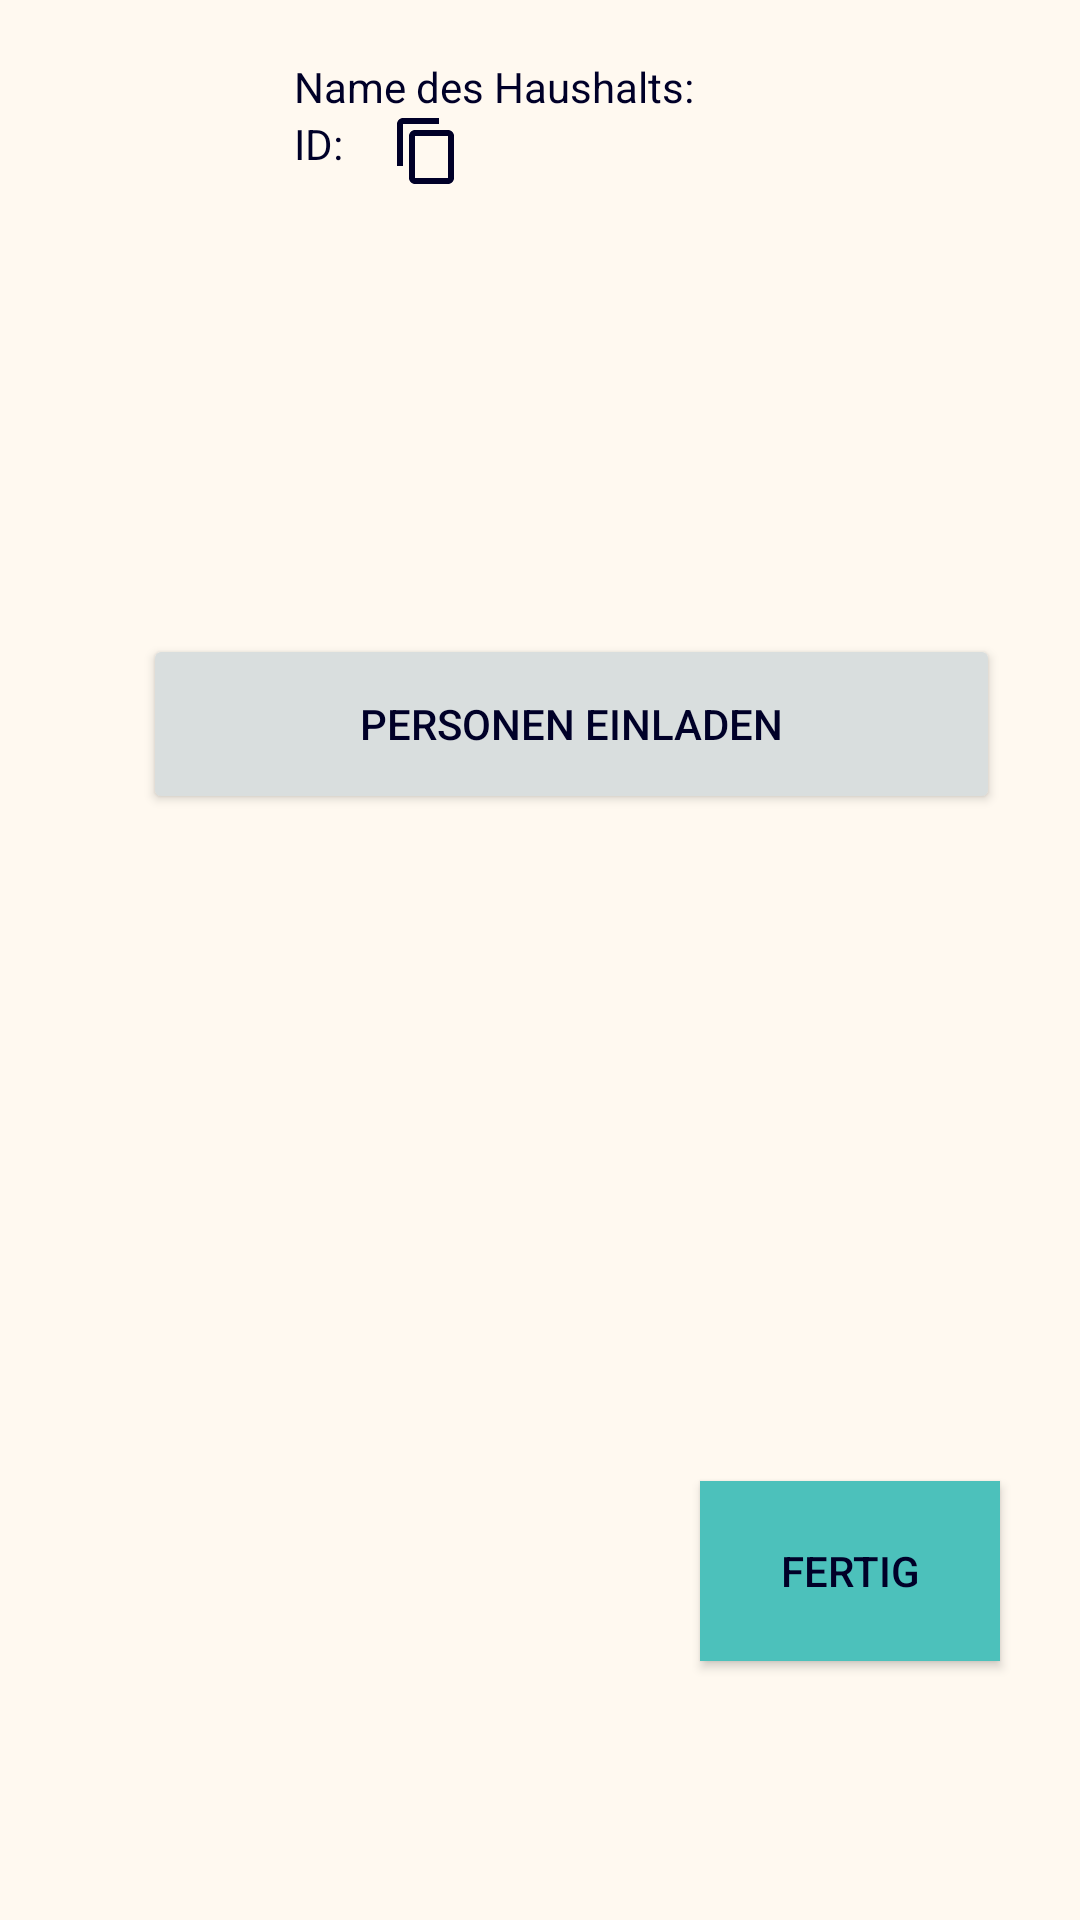

Where to tap for icons on this 1080x1920 app screen, as (x=x, y=y):
Haushalts ID in die Zwischenablage kopieren: (x=425, y=151)
